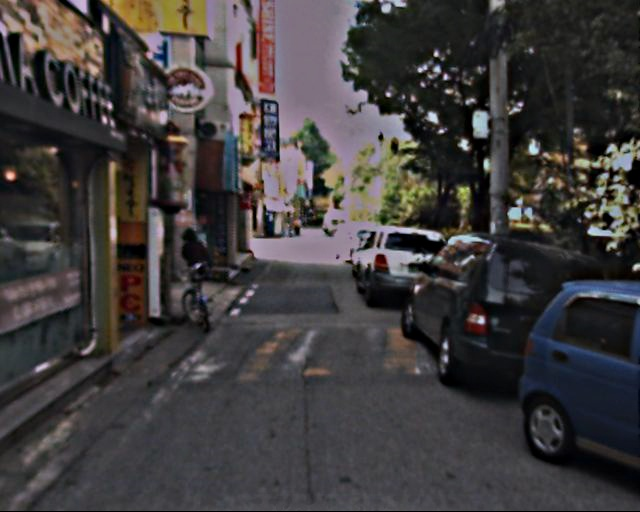person: (173, 225, 212, 311)
